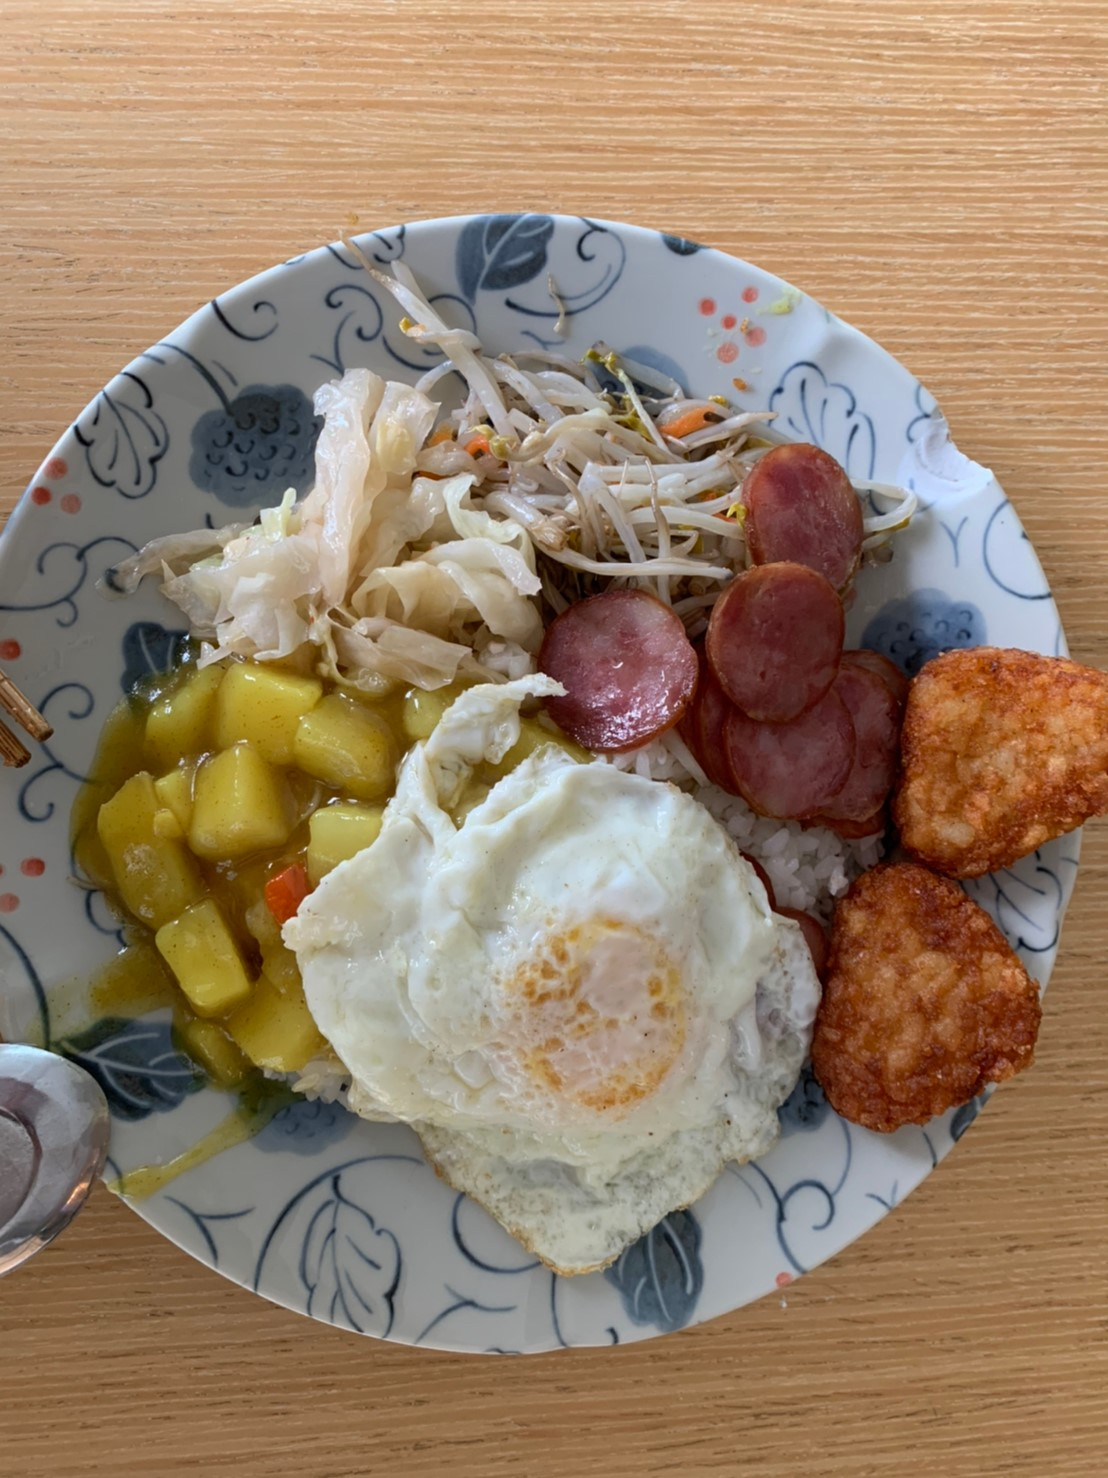chinese_cabbage: (175, 369, 544, 678)
chinese_sausage: (533, 438, 864, 825)
curry: (97, 658, 357, 1087)
fried_eggs: (305, 761, 816, 1274)
mung_bean_sprouts: (499, 354, 745, 578)
rice: (743, 815, 845, 909)
triangle_hash_brown: (823, 642, 1108, 1128)
